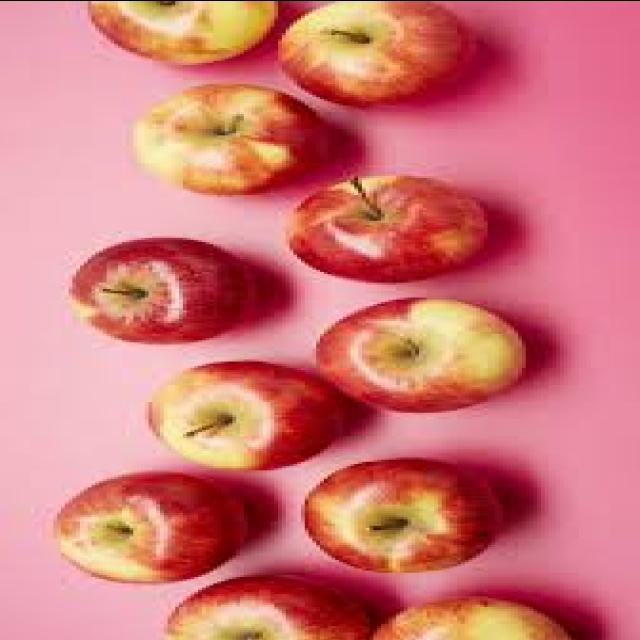apple: (264, 171, 498, 287), (140, 356, 348, 468)
